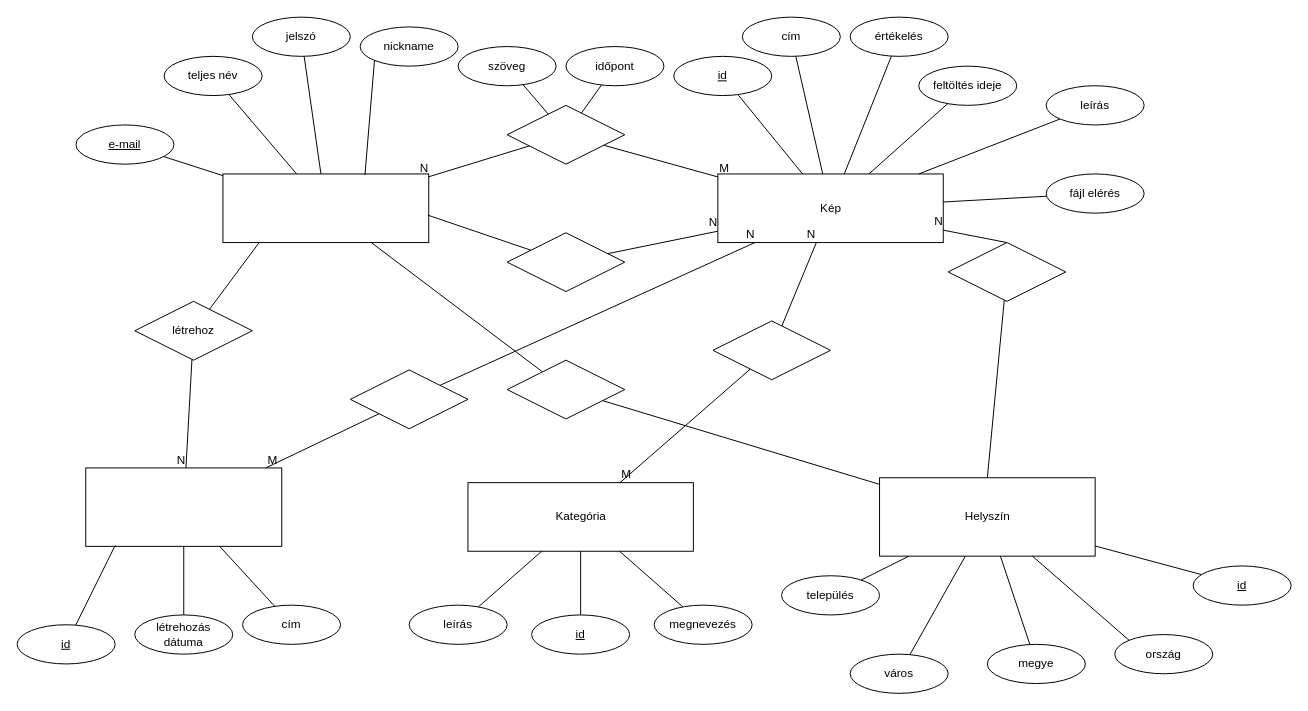
This 1308x711 diagram has some shape labels left out. The centre of each missing label's shape, as x and y in pixels:
Album: the point at 183,506
beletartozik: the point at 771,350
benne van: the point at 408,399
Felhasználó: the point at 325,208
feltölt: the point at 565,262
hozzászól: the point at 565,134
itt készült: the point at 1006,271
lakik: the point at 565,389
